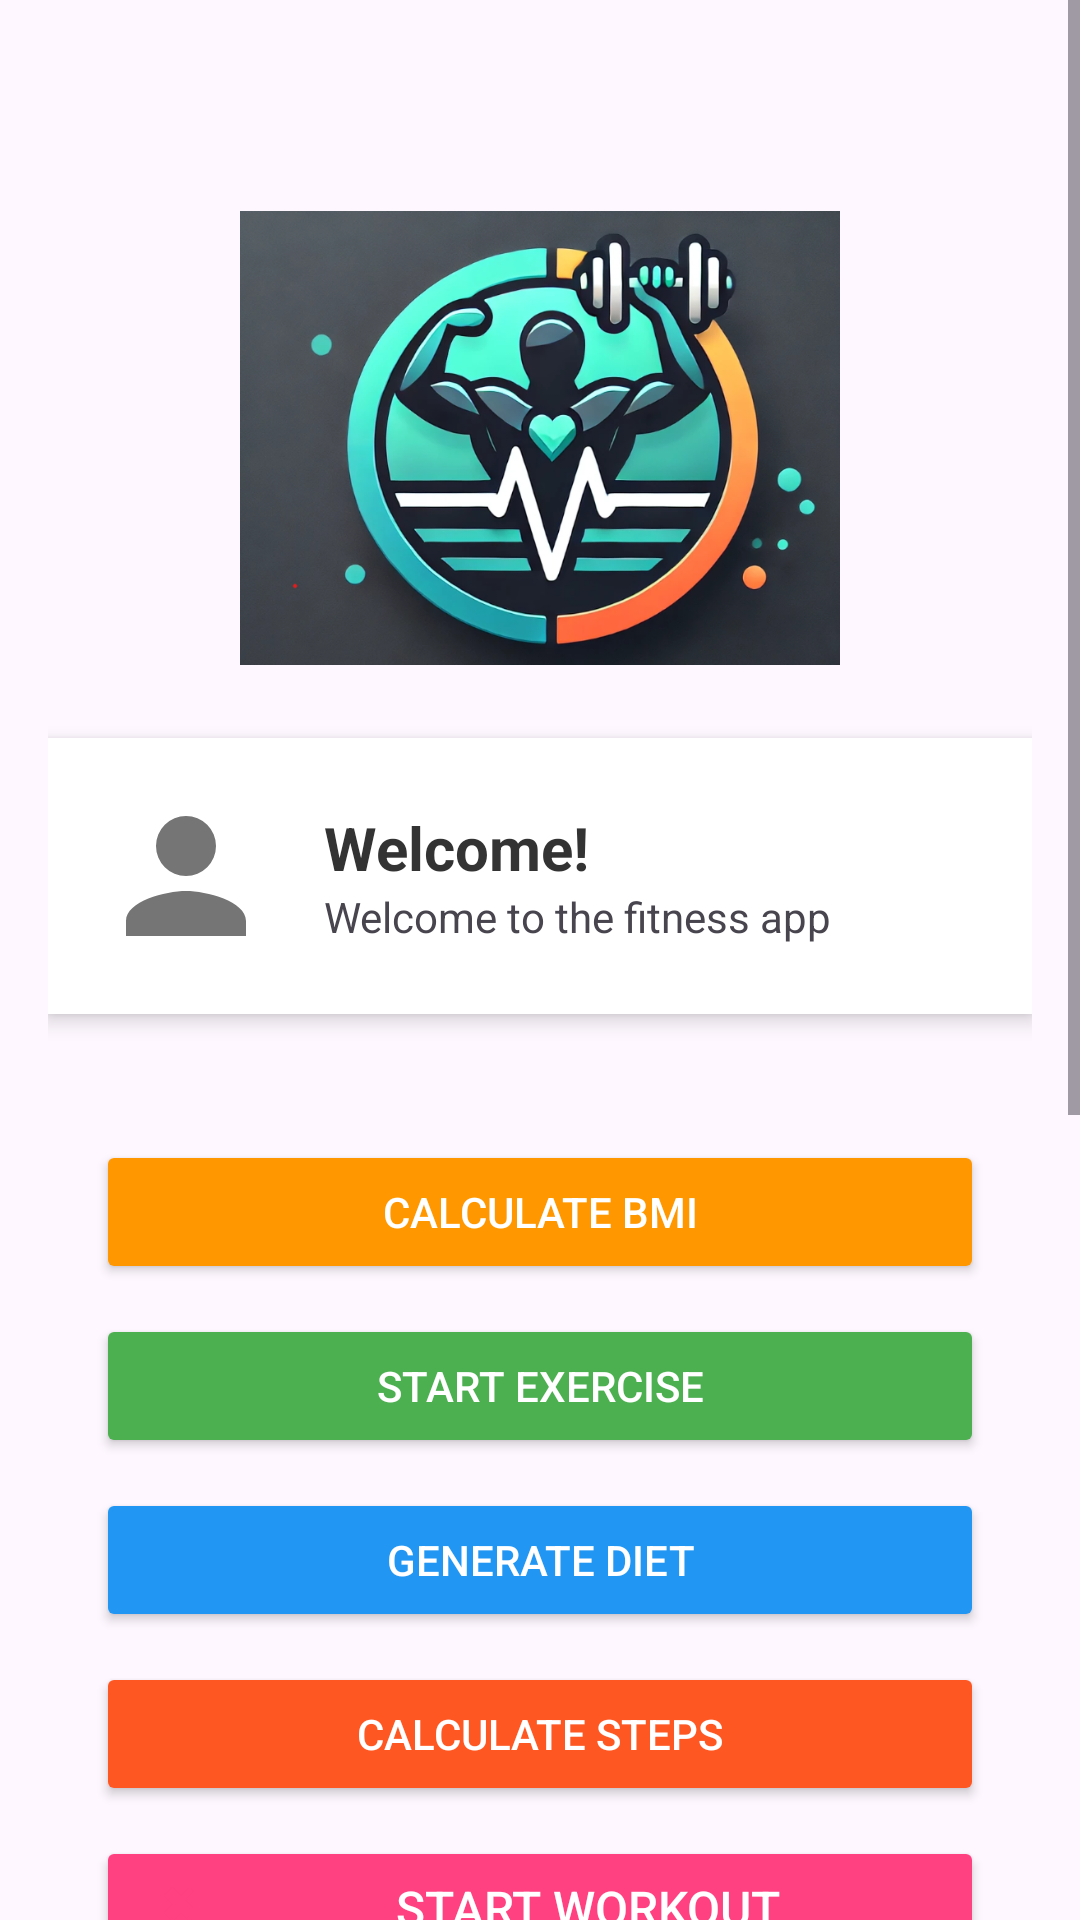

Locate icon controls on the screen. Image size 1080px x 1920px, boxes as bbox(x1, y1, x2, y2).
profile: bbox(126, 816, 246, 936)
